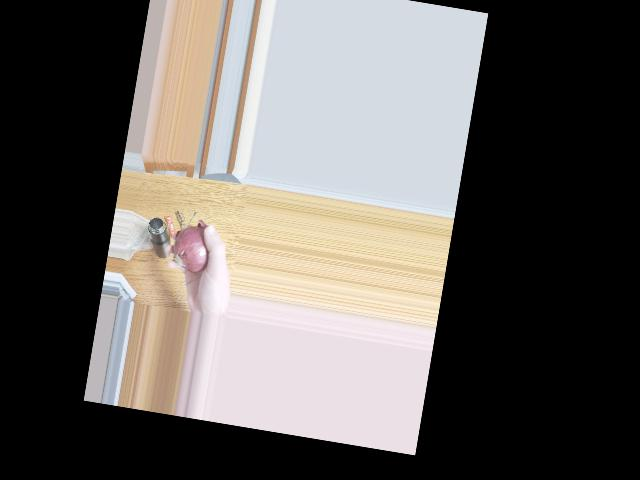onion: (174, 224, 215, 271)
